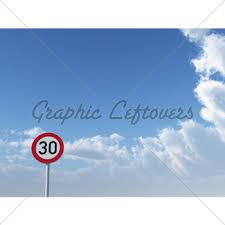Speed_limit_30km: (32, 132, 65, 165)
